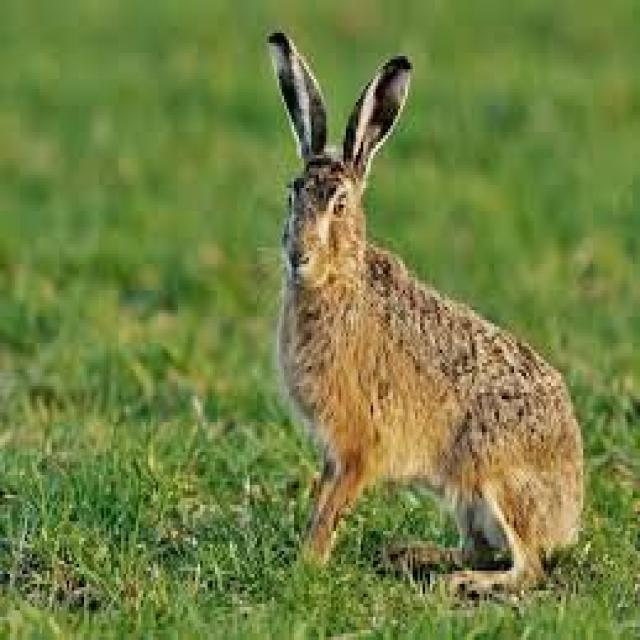Hare: (258, 18, 590, 602)
